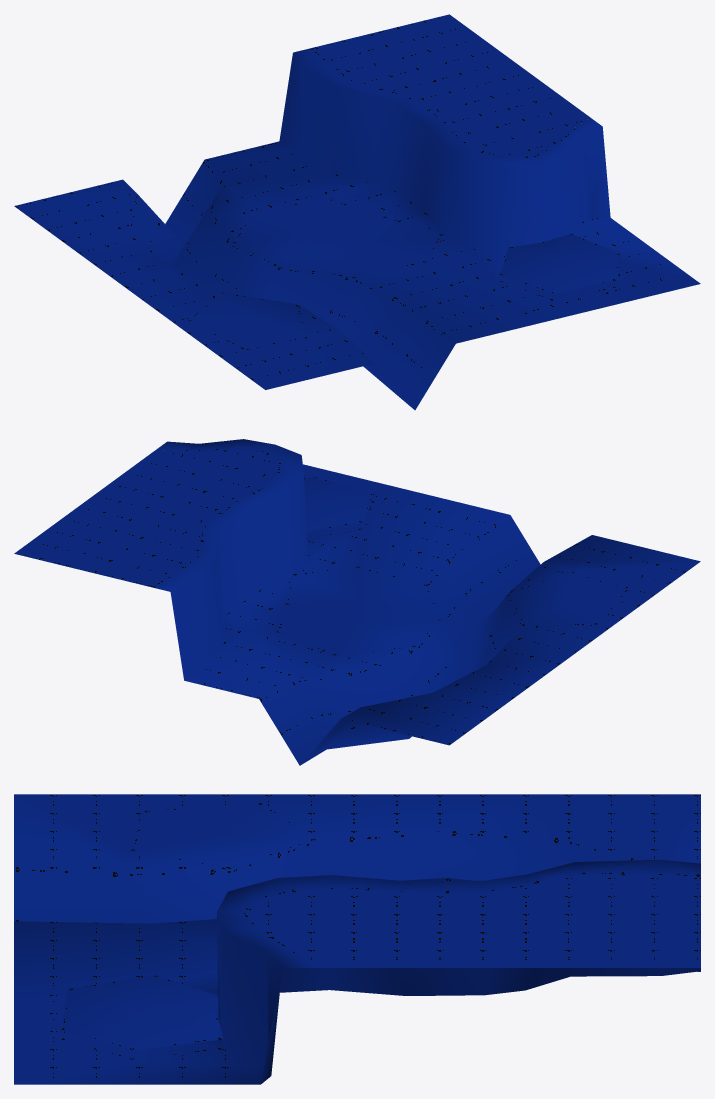
Rendered from GRD_S_C7_R1_1.fbx.
3 renders of one model, top to bottom at view 1: azimuth 30°, elevation 25°; view 2: azimuth 150°, elevation 25°; view 3: azimuth 270°, elevation 25°, orthographic. The views are drawn at different scales.
Parts seen in each view (by area): view 1: material_00022000, material_00052000, material_C0032000, material_C0042000, material_C0012000, material_C0062000; view 2: material_00022000, material_C0032000, material_00052000, material_C0042000, material_C0012000, material_C0062000; view 3: material_00022000, material_C0032000, material_00052000, material_C0012000, material_C0042000, material_C0062000.
Boxes of the visible parts, bbox=[...] form: material_00022000: bbox=[14, 14, 700, 389]; material_00052000: bbox=[279, 47, 610, 254]; material_C0032000: bbox=[130, 160, 455, 410]; material_C0042000: bbox=[187, 199, 443, 349]; material_C0012000: bbox=[500, 233, 619, 293]; material_C0062000: bbox=[500, 260, 619, 300]; material_00022000: bbox=[14, 450, 700, 745]; material_C0032000: bbox=[259, 515, 540, 765]; material_00052000: bbox=[150, 439, 307, 680]; material_C0042000: bbox=[277, 566, 628, 655]; material_C0012000: bbox=[304, 477, 373, 531]; material_C0062000: bbox=[306, 500, 374, 539]; material_00022000: bbox=[14, 794, 700, 1084]; material_C0032000: bbox=[14, 831, 700, 971]; material_00052000: bbox=[217, 859, 700, 1083]; material_C0012000: bbox=[61, 975, 223, 1050]; material_C0042000: bbox=[131, 802, 453, 881]; material_C0062000: bbox=[61, 1031, 223, 1059].
Bounding box in the file's own units: 12801 × 4000 × 12800.
